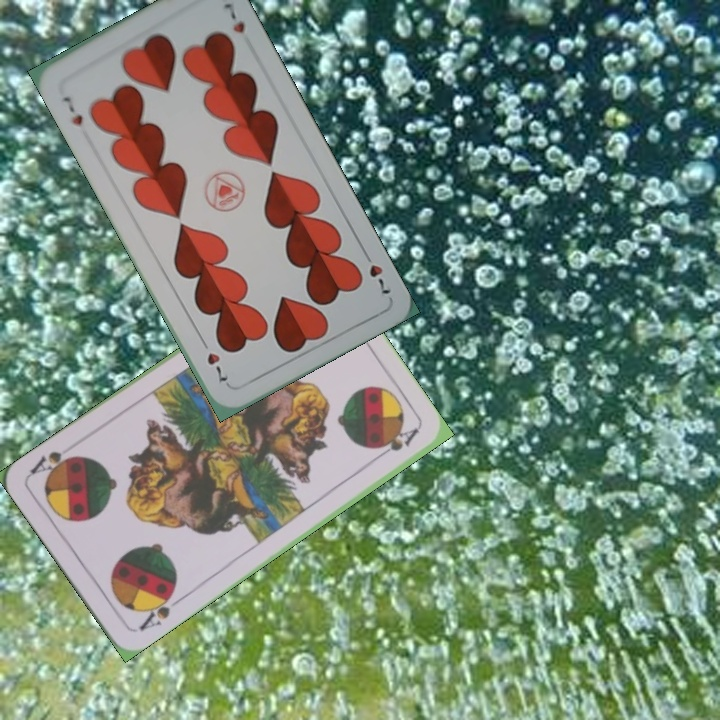H7: (358, 245, 393, 297), (59, 92, 86, 128)
SA: (135, 586, 184, 633)
